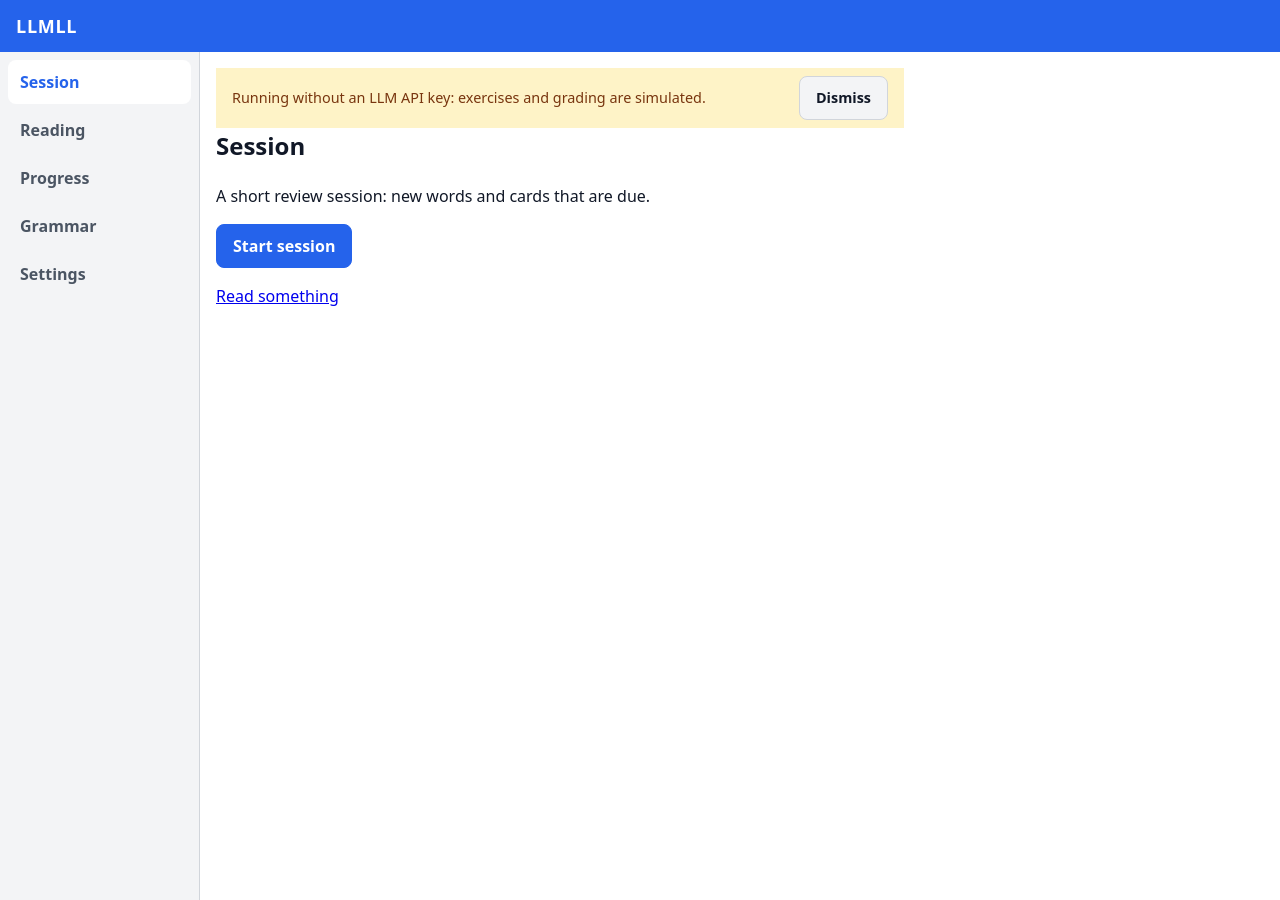
Test case: App fake-LLM banner › shows the banner when the backend uses the fake LLM and lets it be dismissed
expect the text "Running without an LLM API key: exercises and grading are simulated." is shown: met, box x1=232 y1=87 x2=706 y2=109
Click the button "Dismiss". click: (844, 98)
box: x1=799 y1=76 x2=888 y2=120
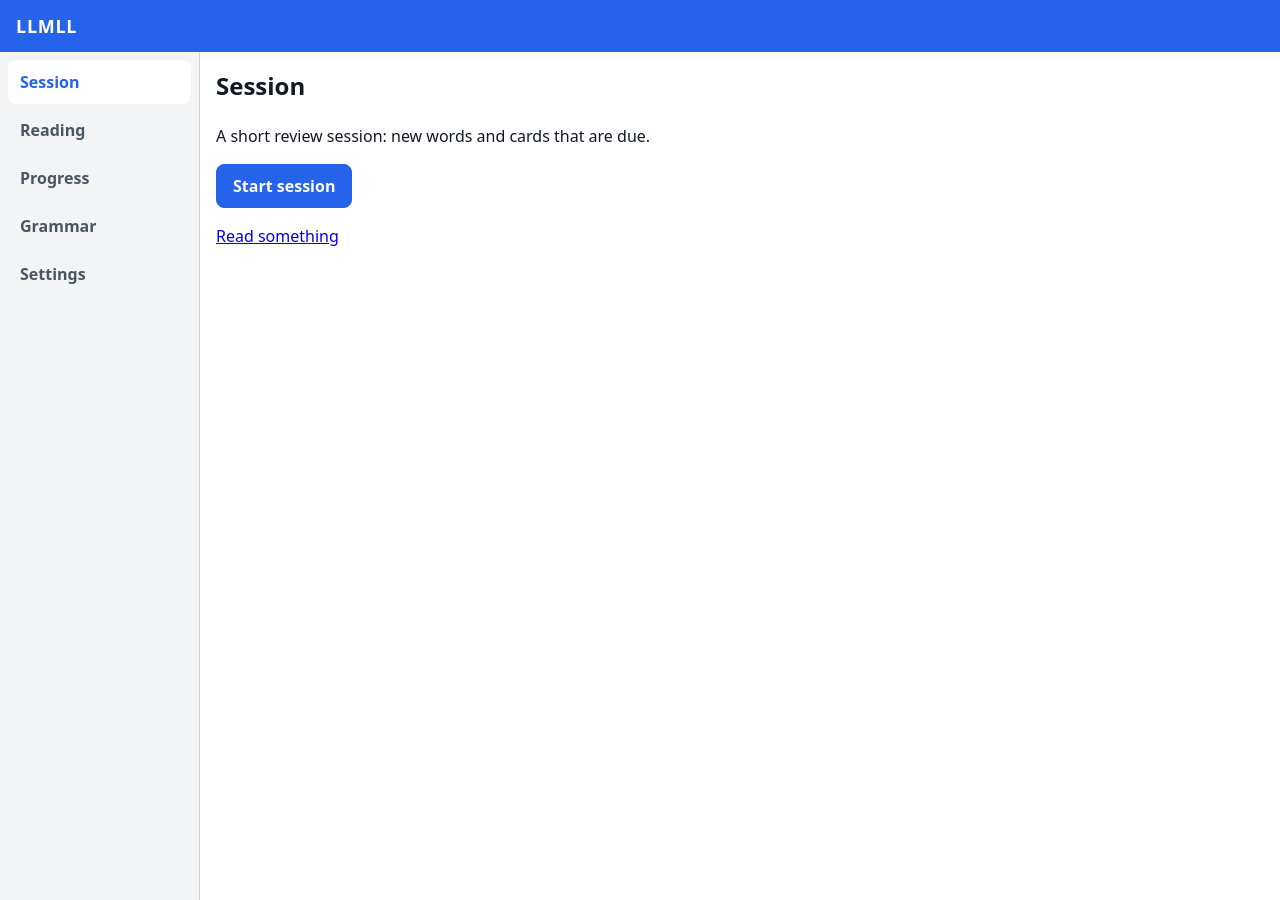
expect the text "Running without an LLM API key: exercises and grading are simulated." is gone: met
